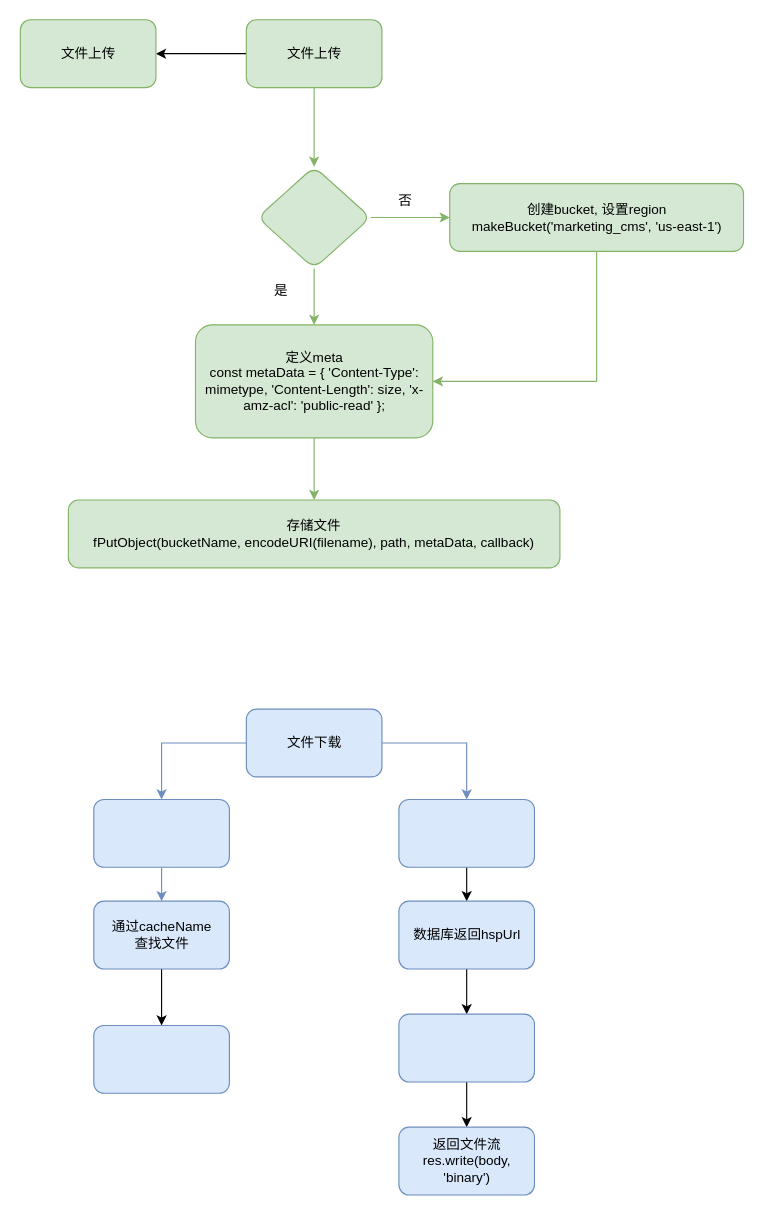
The diagram is 763 pixels wide and 1215 high, and some of its shapes have lost their labels. The shapes that lost their labels are listed below. From the top down, each one's centre as x and y in pixels, then its label:
At (x=314, y=217): "bucketExists".
At (x=161, y=832): "jrss".
At (x=466, y=832): "hsp".
At (x=161, y=1058): "返回文件流 res.write(buffer, 'binary')".
At (x=466, y=1047): "请求hsp文件链接 request({url: hspUrl})".
